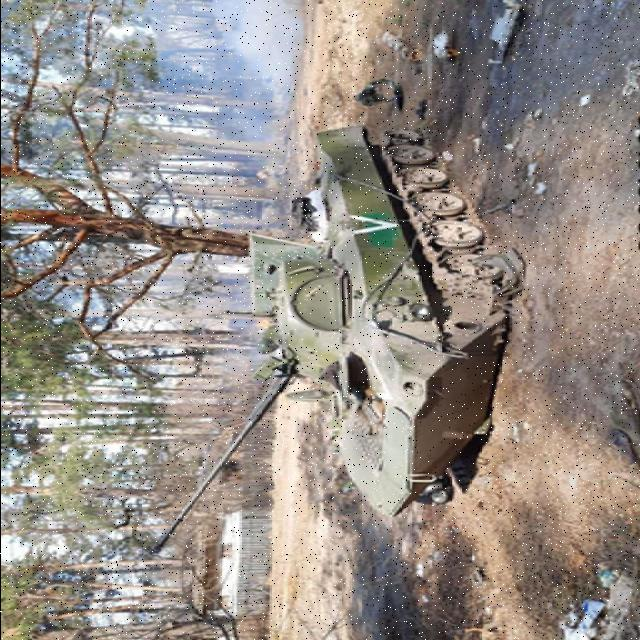APC-IFV: (146, 129, 524, 551)
